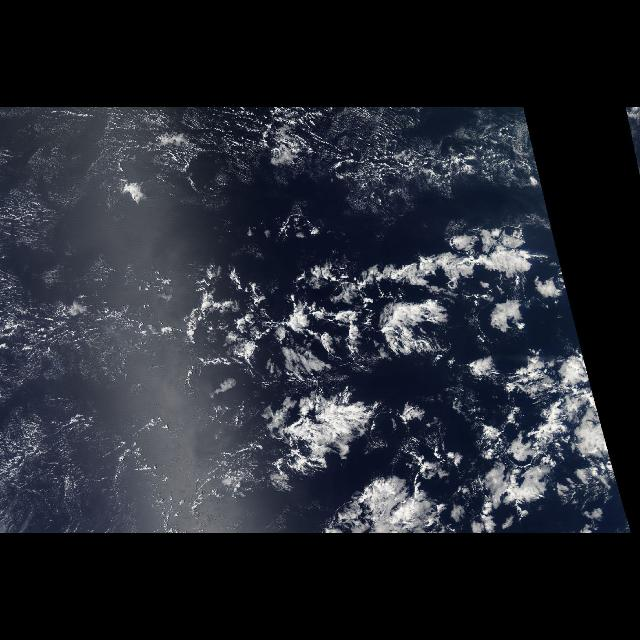Flower: (182, 208, 632, 530)
Sugar: (5, 111, 177, 529)
